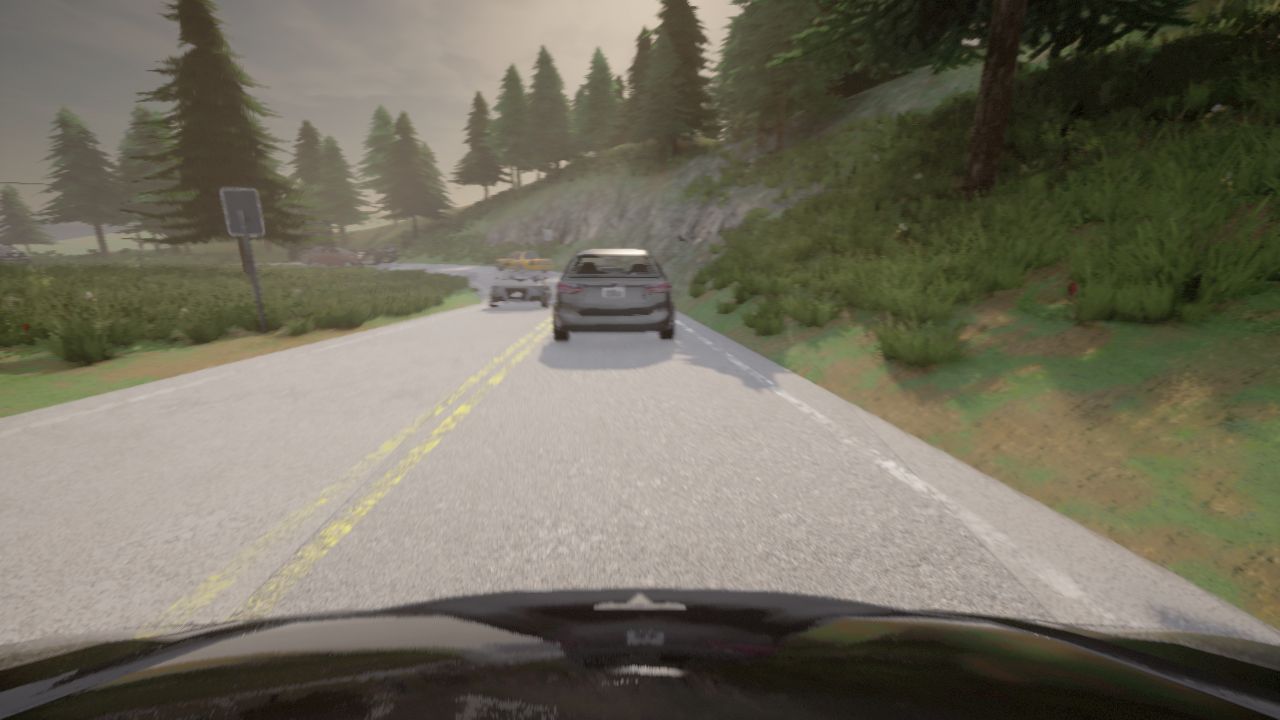cyclist: (0, 588, 1279, 719), (553, 248, 675, 341), (284, 220, 403, 266), (488, 270, 550, 307), (495, 249, 553, 273), (308, 247, 366, 266), (0, 244, 30, 265)
